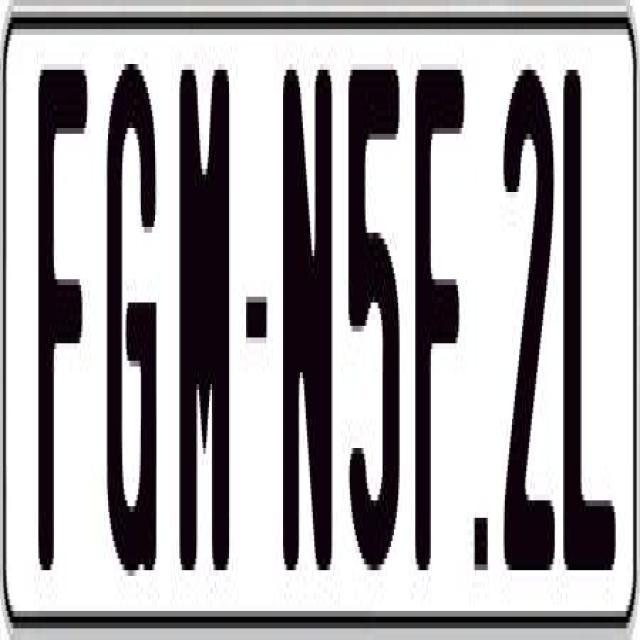2: (500, 52, 560, 553)
5: (348, 58, 406, 594)
F: (34, 70, 84, 594), (412, 58, 462, 570)
G: (102, 52, 158, 570)
L: (558, 64, 618, 576)
M: (176, 52, 228, 576)
N: (282, 52, 332, 564)
